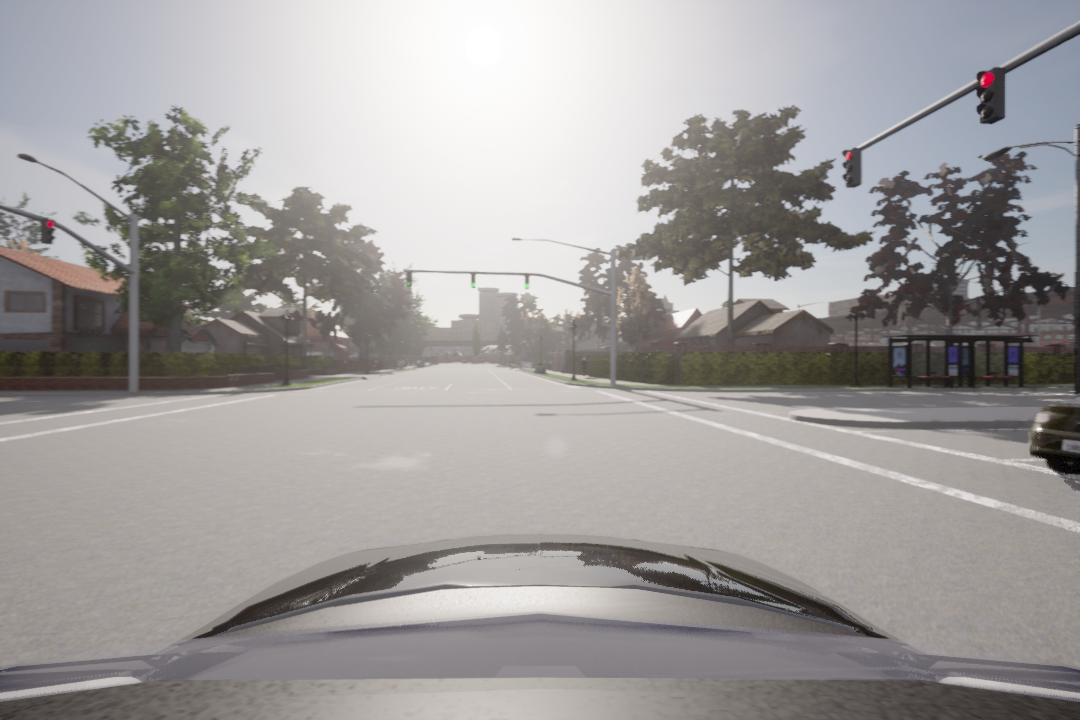TrafficLight: (975, 67, 1008, 128), (843, 147, 866, 187), (39, 217, 56, 245), (402, 268, 414, 291), (469, 271, 477, 291), (524, 272, 529, 289)
